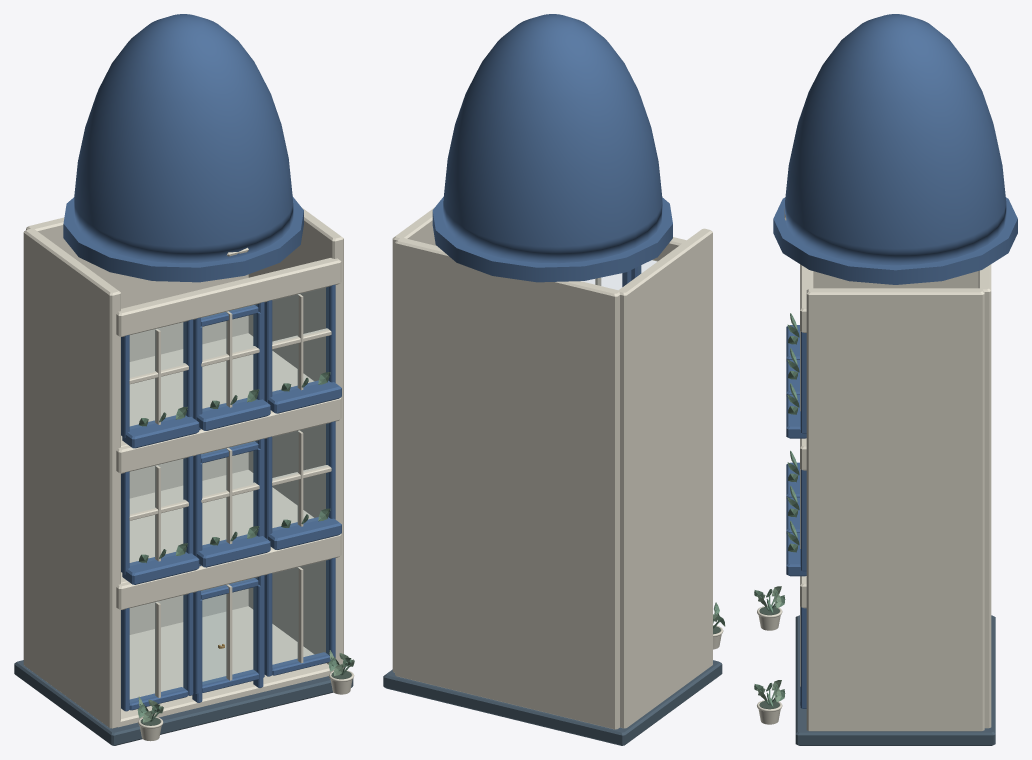
File: v18_special_buildings_observatory.glb
The picture shows the model from 3 angles, left to right: view 1: azimuth 30°, elevation 25°; view 2: azimuth 150°, elevation 25°; view 3: azimuth 270°, elevation 25°; orthographic projection.
Visible parts, largest first — view 1: _MeshInstance3D_5764, _MeshInstance3D_5880, _MeshInstance3D_5765, _MeshInstance3D_5767, _MeshInstance3D_5766, _MeshInstance3D_5836, _MeshInstance3D_5835, _MeshInstance3D_5791, _MeshInstance3D_5879, _MeshInstance3D_5763, _MeshInstance3D_5792, _MeshInstance3D_5768 (+34 smaller); view 2: _MeshInstance3D_5766, _MeshInstance3D_5880, _MeshInstance3D_5764, _MeshInstance3D_5879, _MeshInstance3D_5763, _MeshInstance3D_5765; view 3: _MeshInstance3D_5765, _MeshInstance3D_5880, _MeshInstance3D_5879, _MeshInstance3D_5763, _MeshInstance3D_5766, _MeshInstance3D_5764, _MeshInstance3D_5780, _MeshInstance3D_5820, _MeshInstance3D_5864, _MeshInstance3D_5836, _MeshInstance3D_5825, _MeshInstance3D_5869.
Part boxes in pixels (box(x1,y1,x2,y2)): _MeshInstance3D_5764: box(23, 229, 120, 728); _MeshInstance3D_5880: box(74, 14, 293, 263); _MeshInstance3D_5765: box(248, 208, 343, 668); _MeshInstance3D_5767: box(118, 606, 334, 727); _MeshInstance3D_5766: box(26, 217, 248, 634); _MeshInstance3D_5836: box(116, 258, 341, 336); _MeshInstance3D_5835: box(121, 333, 314, 446); _MeshInstance3D_5791: box(121, 469, 313, 583); _MeshInstance3D_5879: box(63, 196, 303, 282); _MeshInstance3D_5763: box(14, 660, 353, 745); _MeshInstance3D_5792: box(116, 397, 341, 473); _MeshInstance3D_5768: box(116, 534, 341, 609); _MeshInstance3D_5766: box(395, 238, 619, 729); _MeshInstance3D_5880: box(443, 14, 662, 263); _MeshInstance3D_5764: box(618, 228, 712, 728); _MeshInstance3D_5879: box(432, 196, 672, 282); _MeshInstance3D_5763: box(383, 660, 722, 745); _MeshInstance3D_5765: box(392, 207, 436, 672); _MeshInstance3D_5765: box(806, 288, 984, 731); _MeshInstance3D_5880: box(785, 14, 1006, 265); _MeshInstance3D_5879: box(773, 197, 1017, 284); _MeshInstance3D_5763: box(795, 615, 995, 745); _MeshInstance3D_5766: box(978, 264, 991, 728); _MeshInstance3D_5764: box(813, 271, 977, 288); _MeshInstance3D_5780: box(800, 607, 806, 708); _MeshInstance3D_5820: box(800, 469, 806, 571); _MeshInstance3D_5864: box(800, 332, 806, 433); _MeshInstance3D_5836: box(800, 264, 813, 332); _MeshInstance3D_5825: box(786, 532, 806, 576); _MeshInstance3D_5869: box(786, 395, 806, 438).
Bounding box in the file's own units: 4.2 × 11 × 3.94.
